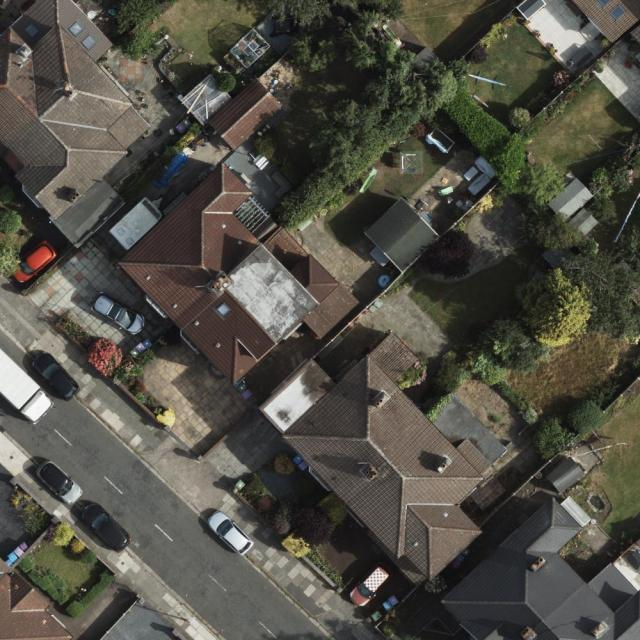roof: (257, 332, 508, 588), (108, 163, 360, 387), (0, 0, 151, 249), (440, 495, 639, 640), (0, 559, 75, 639), (366, 195, 440, 274), (210, 77, 283, 152)
skylight: (82, 33, 99, 52), (215, 300, 231, 318), (68, 20, 84, 36), (23, 24, 39, 39)
